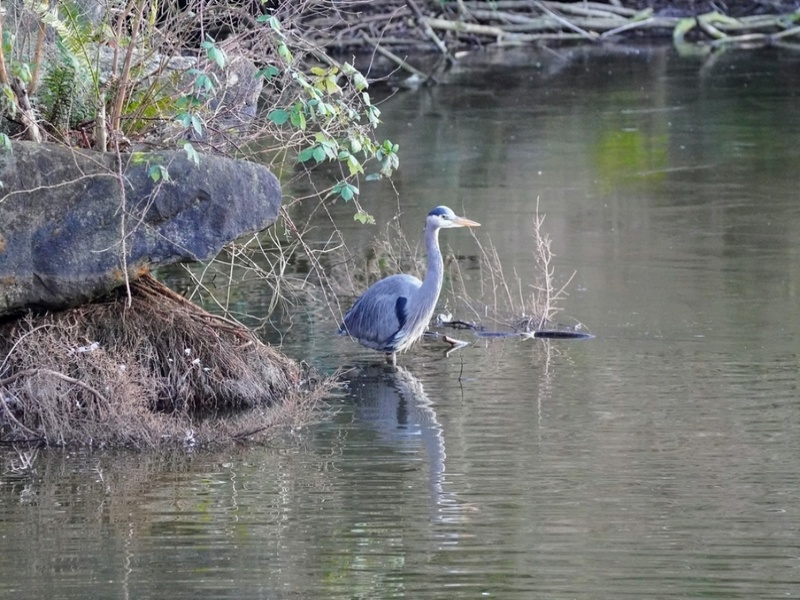heron: (340, 200, 483, 359)
